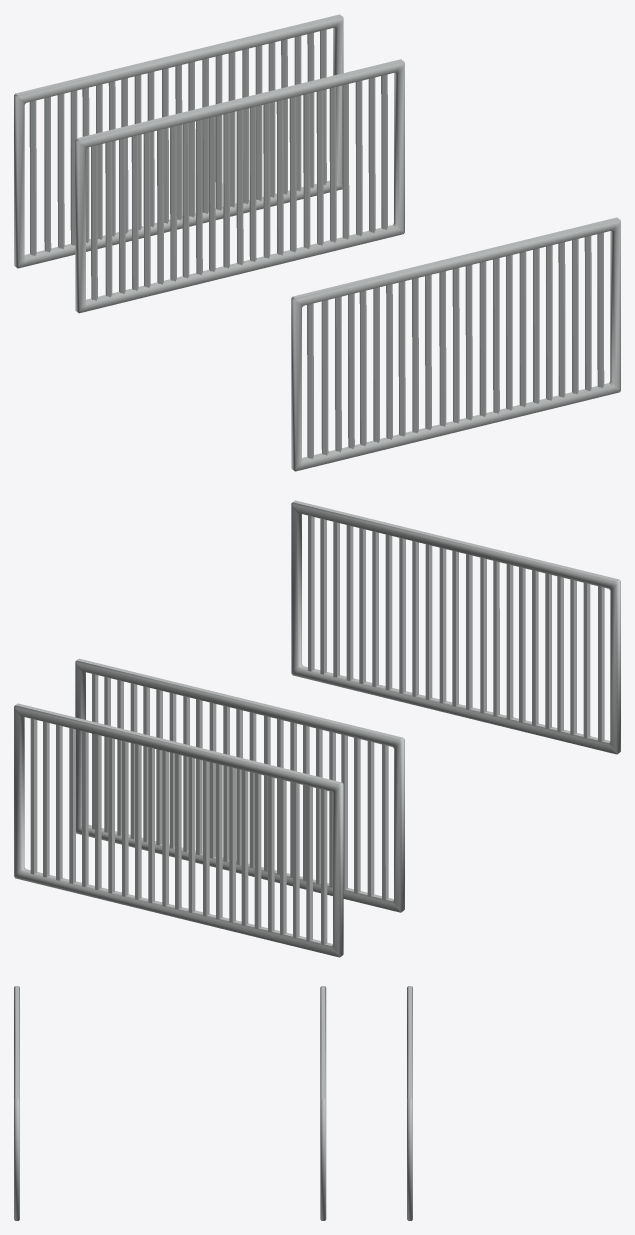
Rendered from FridgebodymeshFridgeA5_0_GeomSubset_2.obj.
The picture shows the model from 3 angles, top to bottom: view 1: azimuth 30°, elevation 25°; view 2: azimuth 150°, elevation 25°; view 3: azimuth 270°, elevation 25°; orthographic projection. The views are drawn at different scales.
Parts seen in each view (by area): view 1: FridgebodymeshFridgeA5_0_GeomSubset_2; view 2: FridgebodymeshFridgeA5_0_GeomSubset_2; view 3: FridgebodymeshFridgeA5_0_GeomSubset_2.
Boxes of the visible parts, x1=… form: FridgebodymeshFridgeA5_0_GeomSubset_2: x1=14, y1=14, x2=620, y2=471; FridgebodymeshFridgeA5_0_GeomSubset_2: x1=14, y1=500, x2=620, y2=957; FridgebodymeshFridgeA5_0_GeomSubset_2: x1=14, y1=986, x2=412, y2=1220.
Bounding box in the file's own units: 0.6184 × 0.3128 × 1.4.
